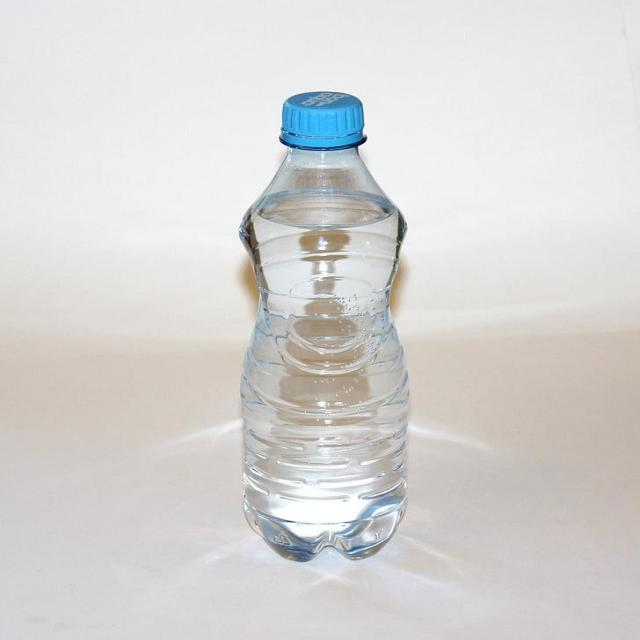bottle: (220, 83, 414, 568)
